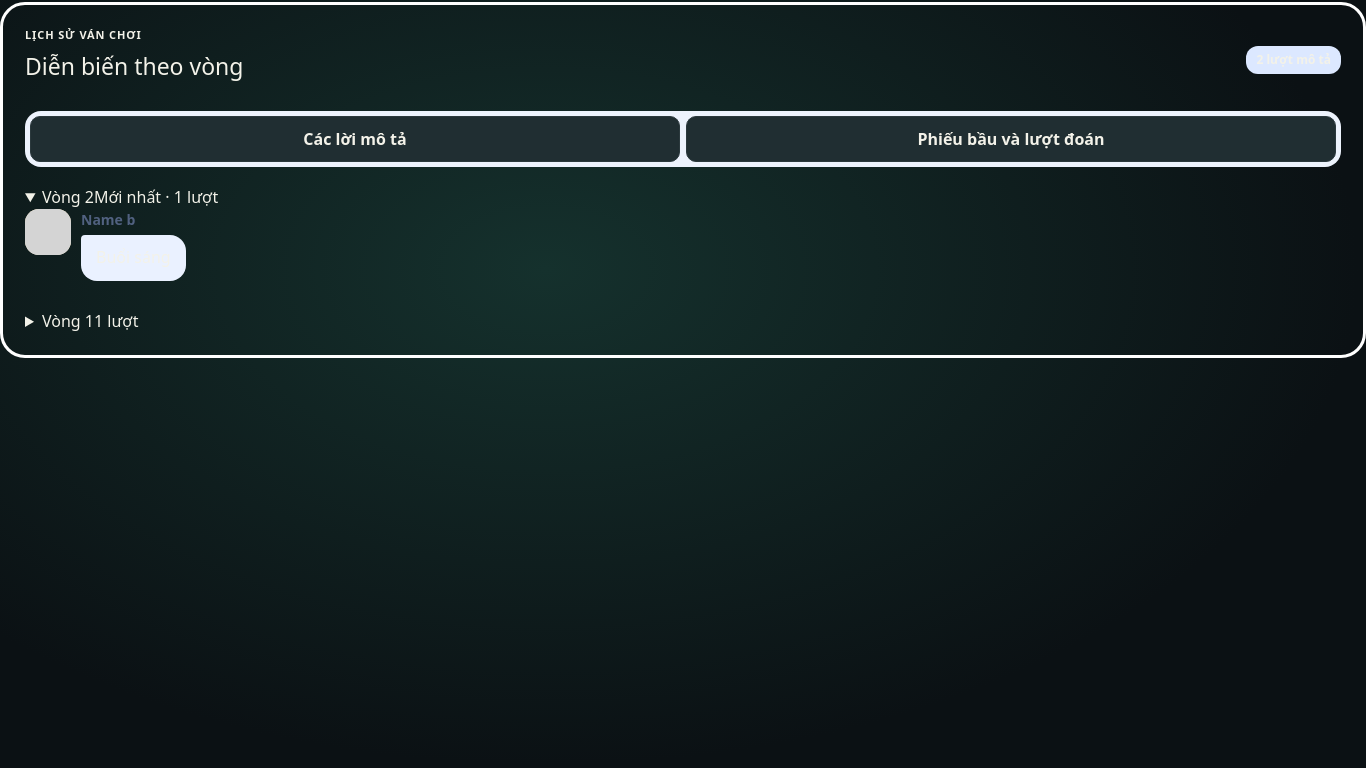
Scenario: Mũ Trắng controls › opens the newest available history round and labels closed votes and guesses
The image size is (1366, 768).
expect the text "Buổi sáng" is shown: met, box [81,235,186,281]
Click the button "Phiếu bầu và lượt đoán".
click(1011, 139)  # box [686,116,1336,162]
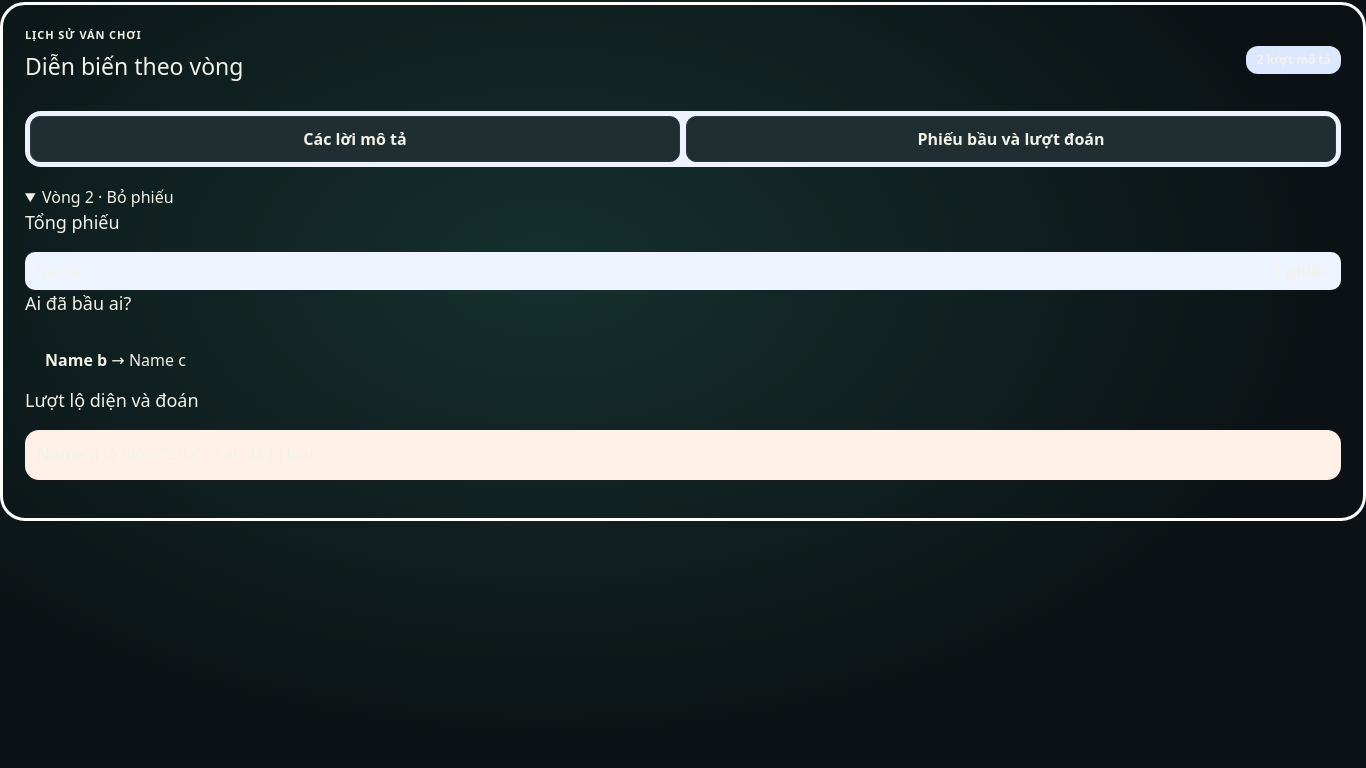
expect the heading "Tổng phiếu" is shown: met, box [25,210,120,234]
expect the heading "Ai đã bầu ai?" is shown: met, box [25,291,131,315]
